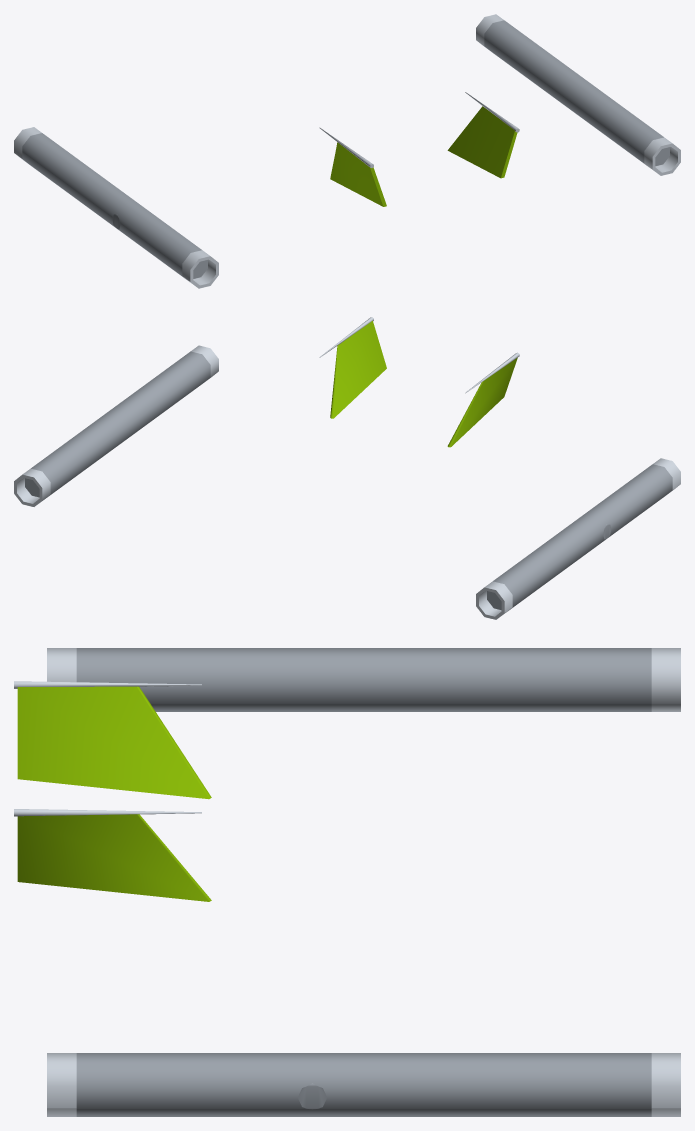
3 views of the same model, one above another, from view 1: azimuth 30°, elevation 25°; view 2: azimuth 150°, elevation 25°; view 3: azimuth 270°, elevation 25° (orthographic). The views are drawn at different scales.
Parts seen in each view (by area): view 1: lod1_mk3_part; view 2: lod1_mk3_part; view 3: lod1_mk3_part.
Boxes of the visible parts, x1,y1,x2,y2 form: lod1_mk3_part: (14,14,680,288); lod1_mk3_part: (14,317,680,619); lod1_mk3_part: (14,648,680,1116).
Bounding box in the file's own units: 27.62 × 18.1 × 4.92.
